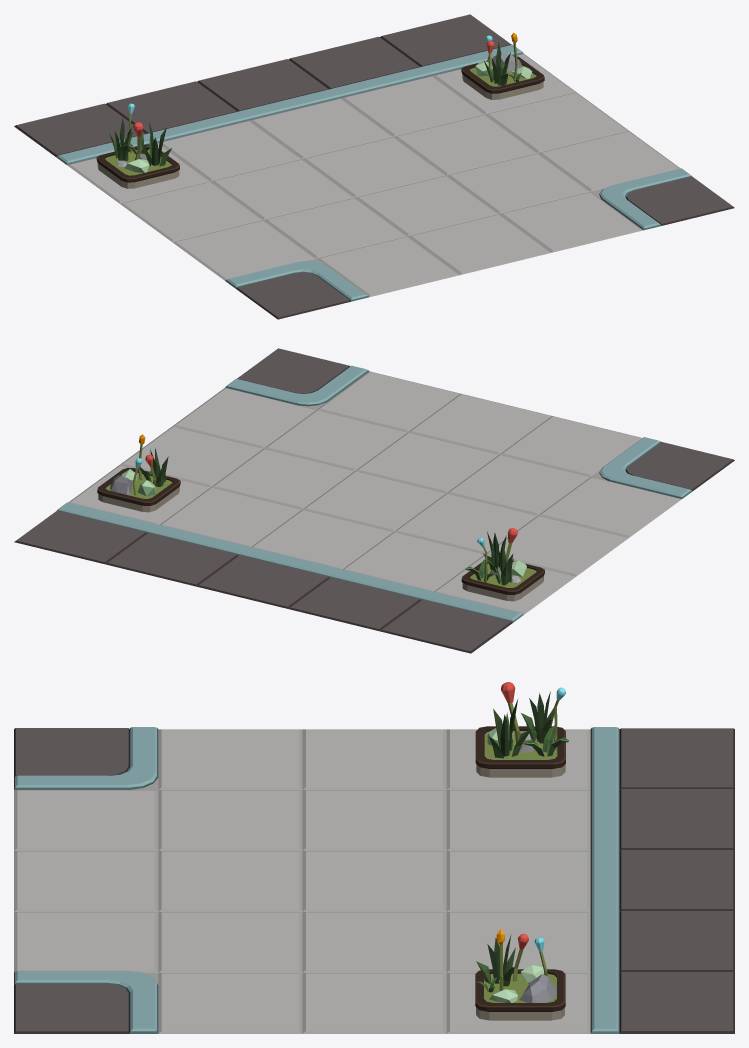
File: Fork_D.glb
3 renders of one model, top to bottom at view 1: azimuth 30°, elevation 25°; view 2: azimuth 150°, elevation 25°; view 3: azimuth 270°, elevation 25°, orthographic. The views are drawn at different scales.
Visible parts, largest first — view 1: Fork_D, Cube.248, Cube.247, Grass_03.580, Grass_03.578; view 2: Fork_D, Cube.247, Cube.248; view 3: Fork_D, Cube.248, Cube.247, Grass_03.580, Grass_03.579, Grass_03.578, Rock_08.071.
Part boxes in pixels (x1,y1,x2,y2): Fork_D: [14, 14, 734, 319]; Cube.248: [96, 144, 179, 188]; Cube.247: [461, 55, 544, 99]; Grass_03.580: [141, 122, 171, 166]; Grass_03.578: [484, 42, 510, 85]; Fork_D: [14, 348, 734, 653]; Cube.247: [97, 468, 180, 512]; Cube.248: [461, 560, 544, 601]; Fork_D: [14, 727, 734, 1033]; Cube.248: [475, 726, 565, 777]; Cube.247: [475, 969, 565, 1020]; Grass_03.580: [489, 698, 531, 758]; Grass_03.579: [521, 691, 554, 743]; Grass_03.578: [476, 934, 515, 986]; Rock_08.071: [519, 974, 556, 1002].
Size of what is drawn, in the model's own units: 16 by 1.94 by 16.
1 material, 1 textured.
